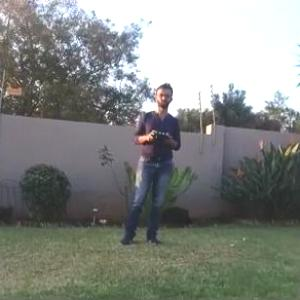follow: (112, 76, 183, 248)
